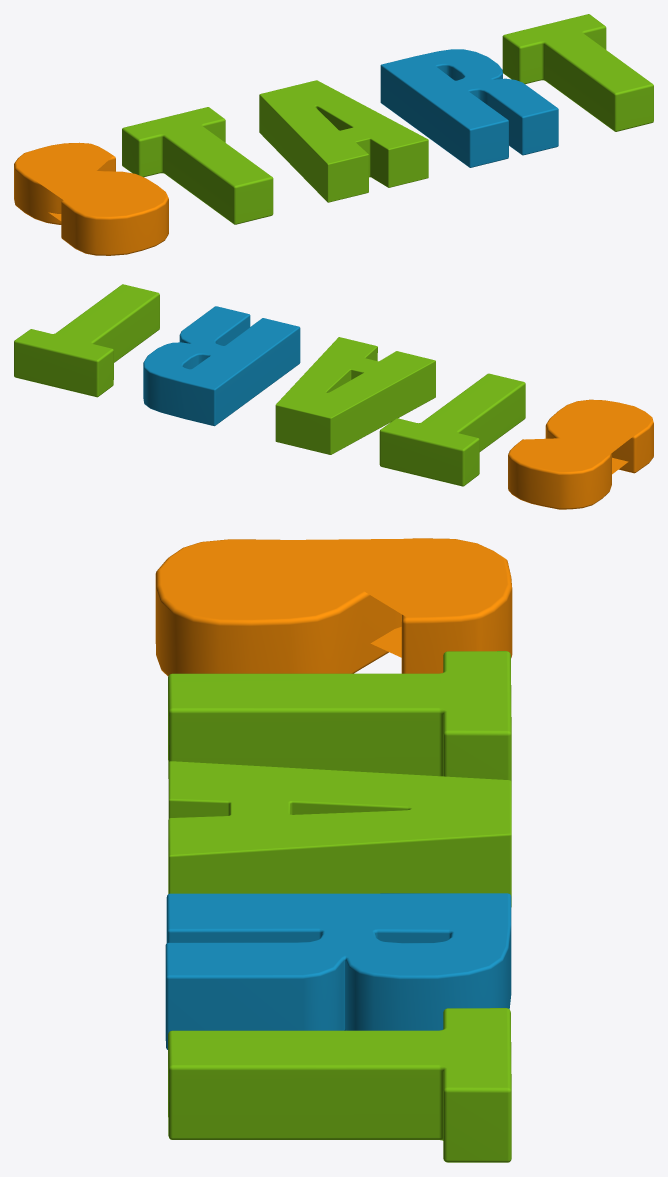
Rendered from SchriftStart.fbx.
3 renders of one model, top to bottom at view 1: azimuth 30°, elevation 25°; view 2: azimuth 150°, elevation 25°; view 3: azimuth 270°, elevation 25°, orthographic. The views are drawn at different scales.
Parts seen in each view (by area): view 1: Letter_R, Letter_A, Letter_S, Letter_T.001, Letter_T; view 2: Letter_R, Letter_A, Letter_S, Letter_T, Letter_T.001; view 3: Letter_R, Letter_S, Letter_A, Letter_T.001, Letter_T.
Boxes of the visible parts, x1,y1,x2,y2 form: Letter_R: (380, 49, 558, 167); Letter_A: (259, 80, 428, 202); Letter_S: (14, 142, 168, 255); Letter_T.001: (502, 14, 653, 131); Letter_T: (122, 107, 273, 224); Letter_R: (143, 306, 300, 426); Letter_A: (275, 337, 435, 454); Letter_S: (508, 399, 653, 509); Letter_T: (379, 373, 525, 486); Letter_T.001: (14, 284, 159, 397); Letter_R: (165, 893, 511, 1049); Letter_S: (155, 538, 512, 676); Letter_A: (168, 761, 511, 906); Letter_T.001: (168, 1008, 511, 1162); Letter_T: (168, 651, 511, 781).
Size of the model in its own units: 14.63 by 0.9891 by 3.98.
Materials: 6 (6 with a texture image).
